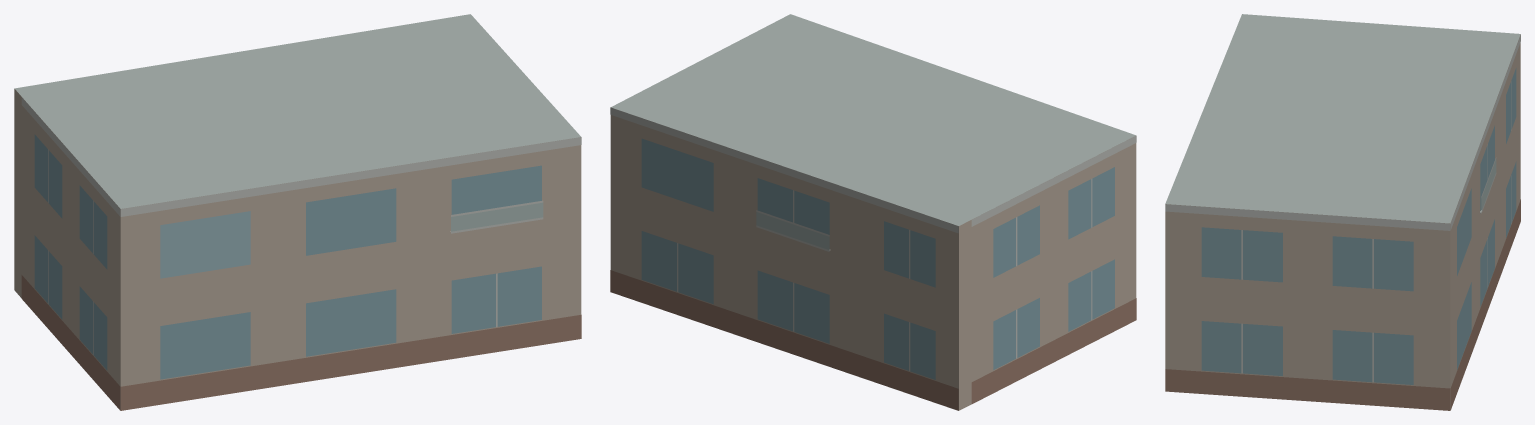
File: survey-upis-32484528.glb
The picture shows the model from 3 angles, left to right: view 1: azimuth 30°, elevation 25°; view 2: azimuth 150°, elevation 25°; view 3: azimuth 270°, elevation 25°; orthographic projection. The views are drawn at different scales.
Parts seen in each view (by area): view 1: survey-upis-32484528.tmp; view 2: survey-upis-32484528.tmp; view 3: survey-upis-32484528.tmp.
Part boxes in pixels (x1,y1,x2,y2): survey-upis-32484528.tmp: (14,14,581,410); survey-upis-32484528.tmp: (610,14,1136,410); survey-upis-32484528.tmp: (1165,14,1520,410).
Size of the model in its own units: 14.63 by 6.1 by 10.5.
